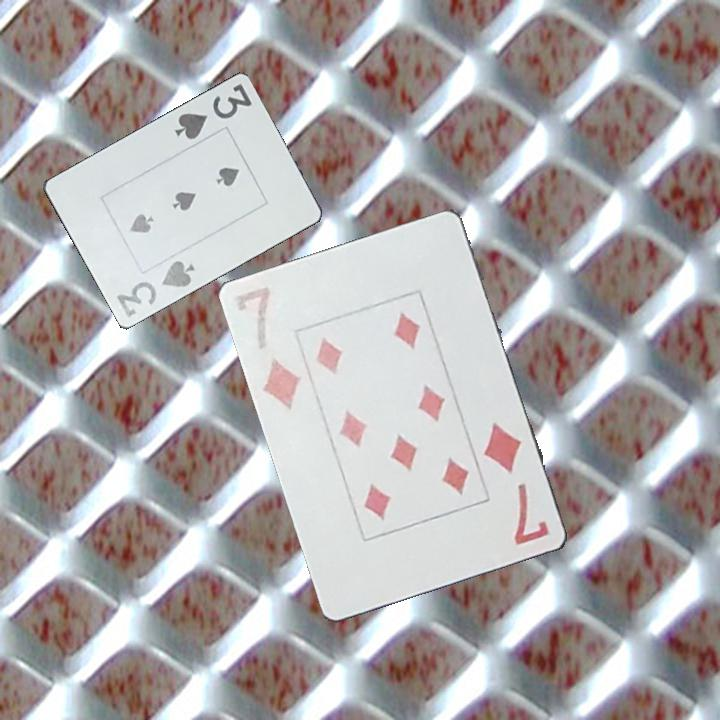3s: (113, 257, 198, 321), (170, 80, 255, 143)
7d: (233, 283, 307, 414), (480, 419, 552, 548)
